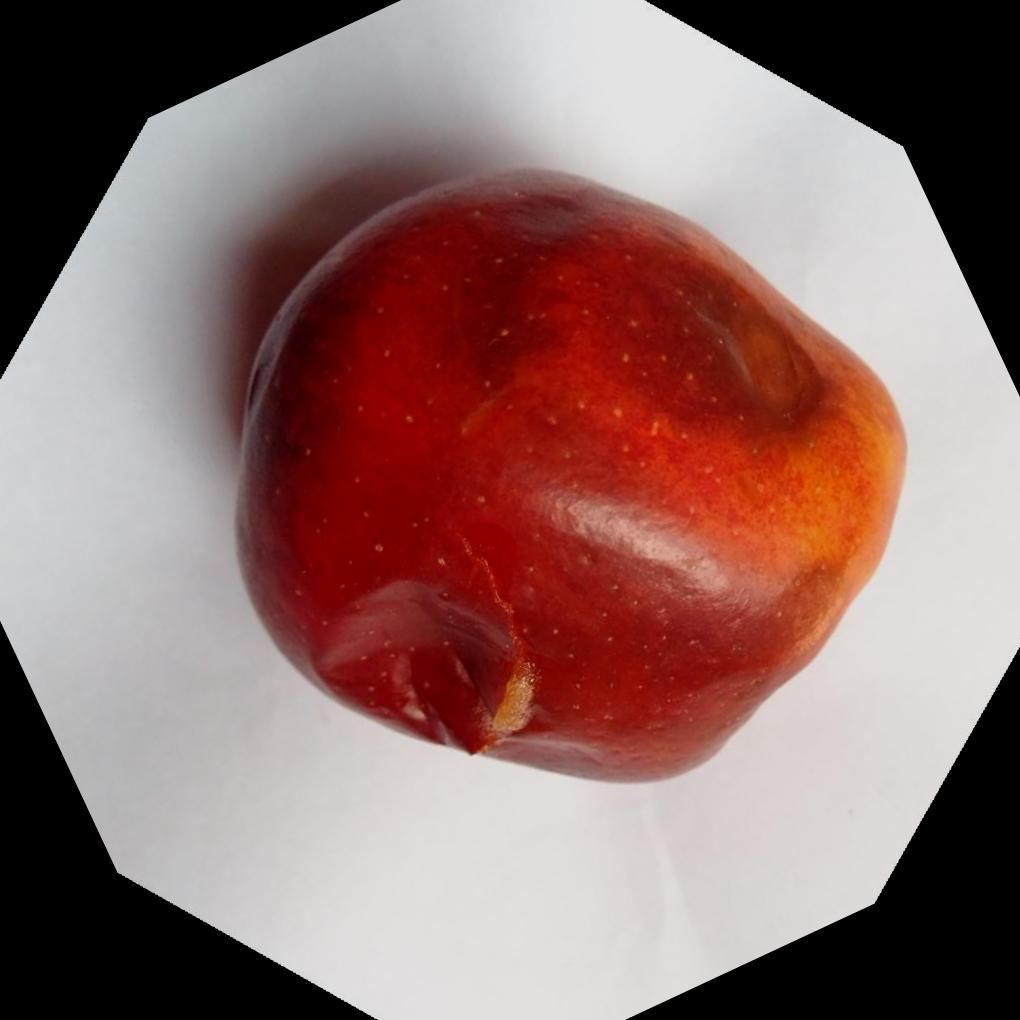FreshOrange: (231, 159, 907, 781)
